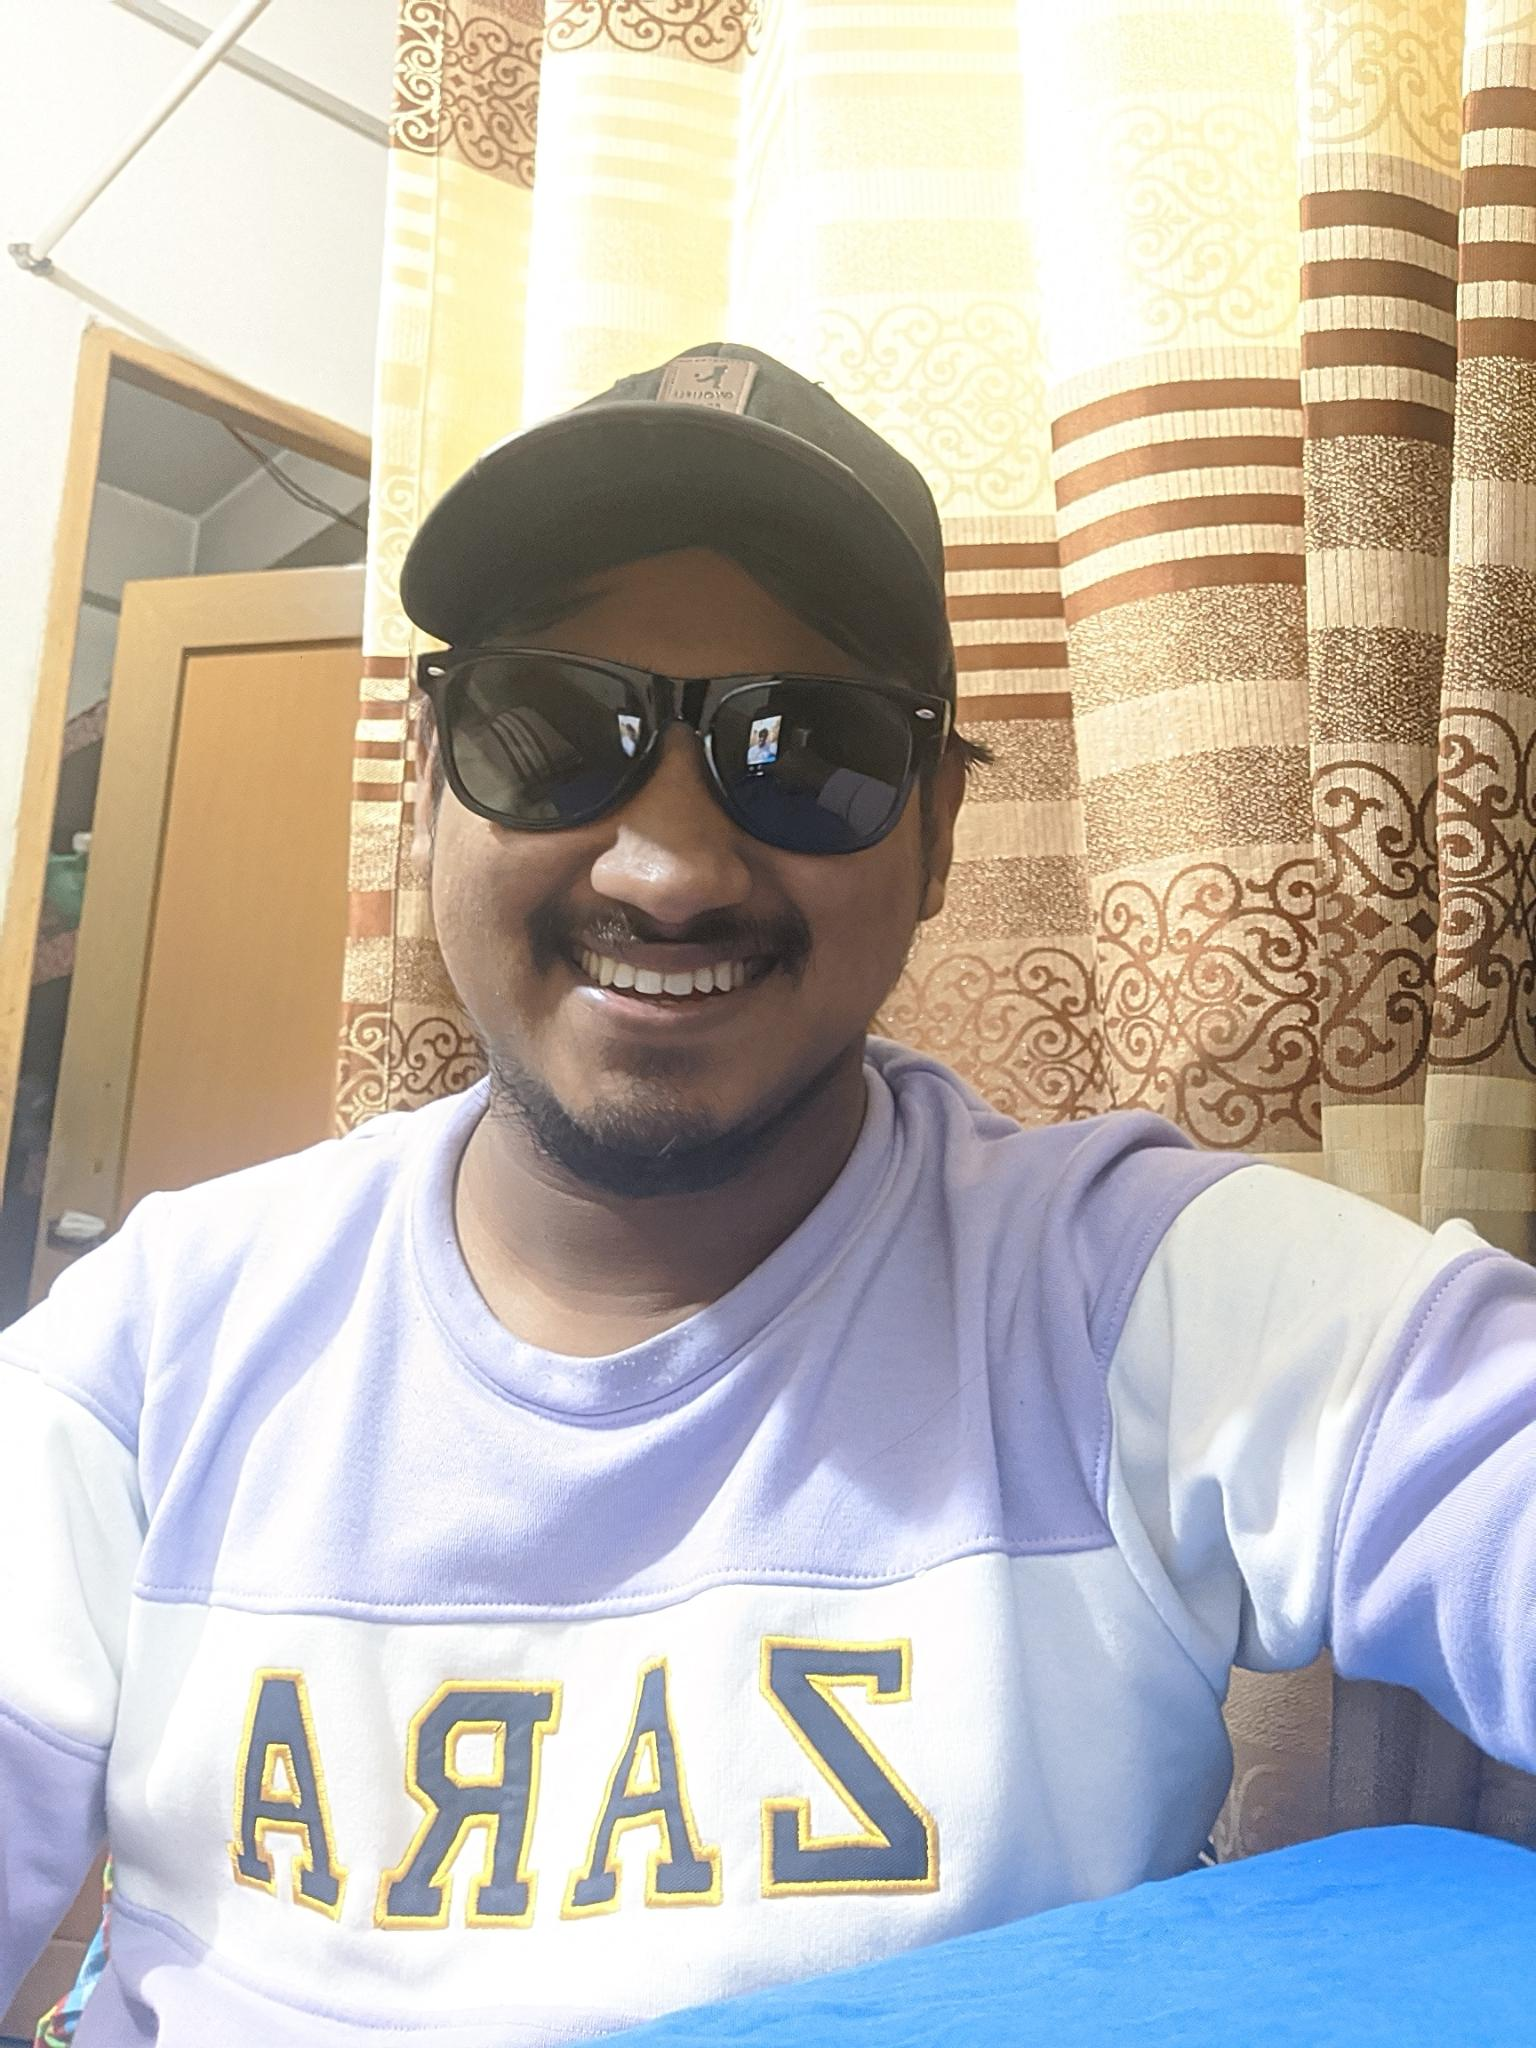Happy: (410, 597, 928, 1143)
